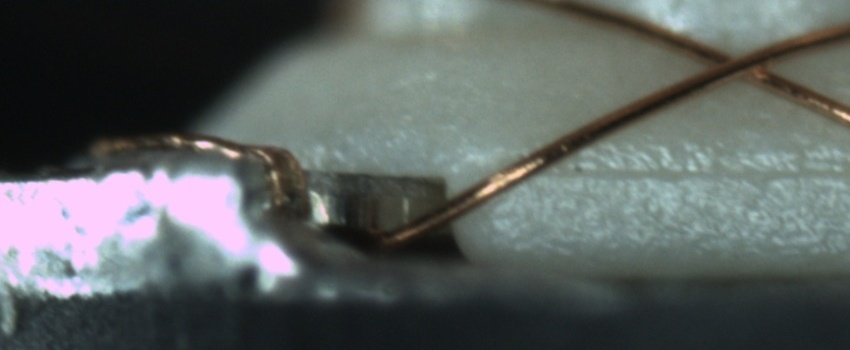CL: (694, 33, 791, 90)
DL: (534, 141, 849, 203)
TE: (89, 130, 307, 208)
